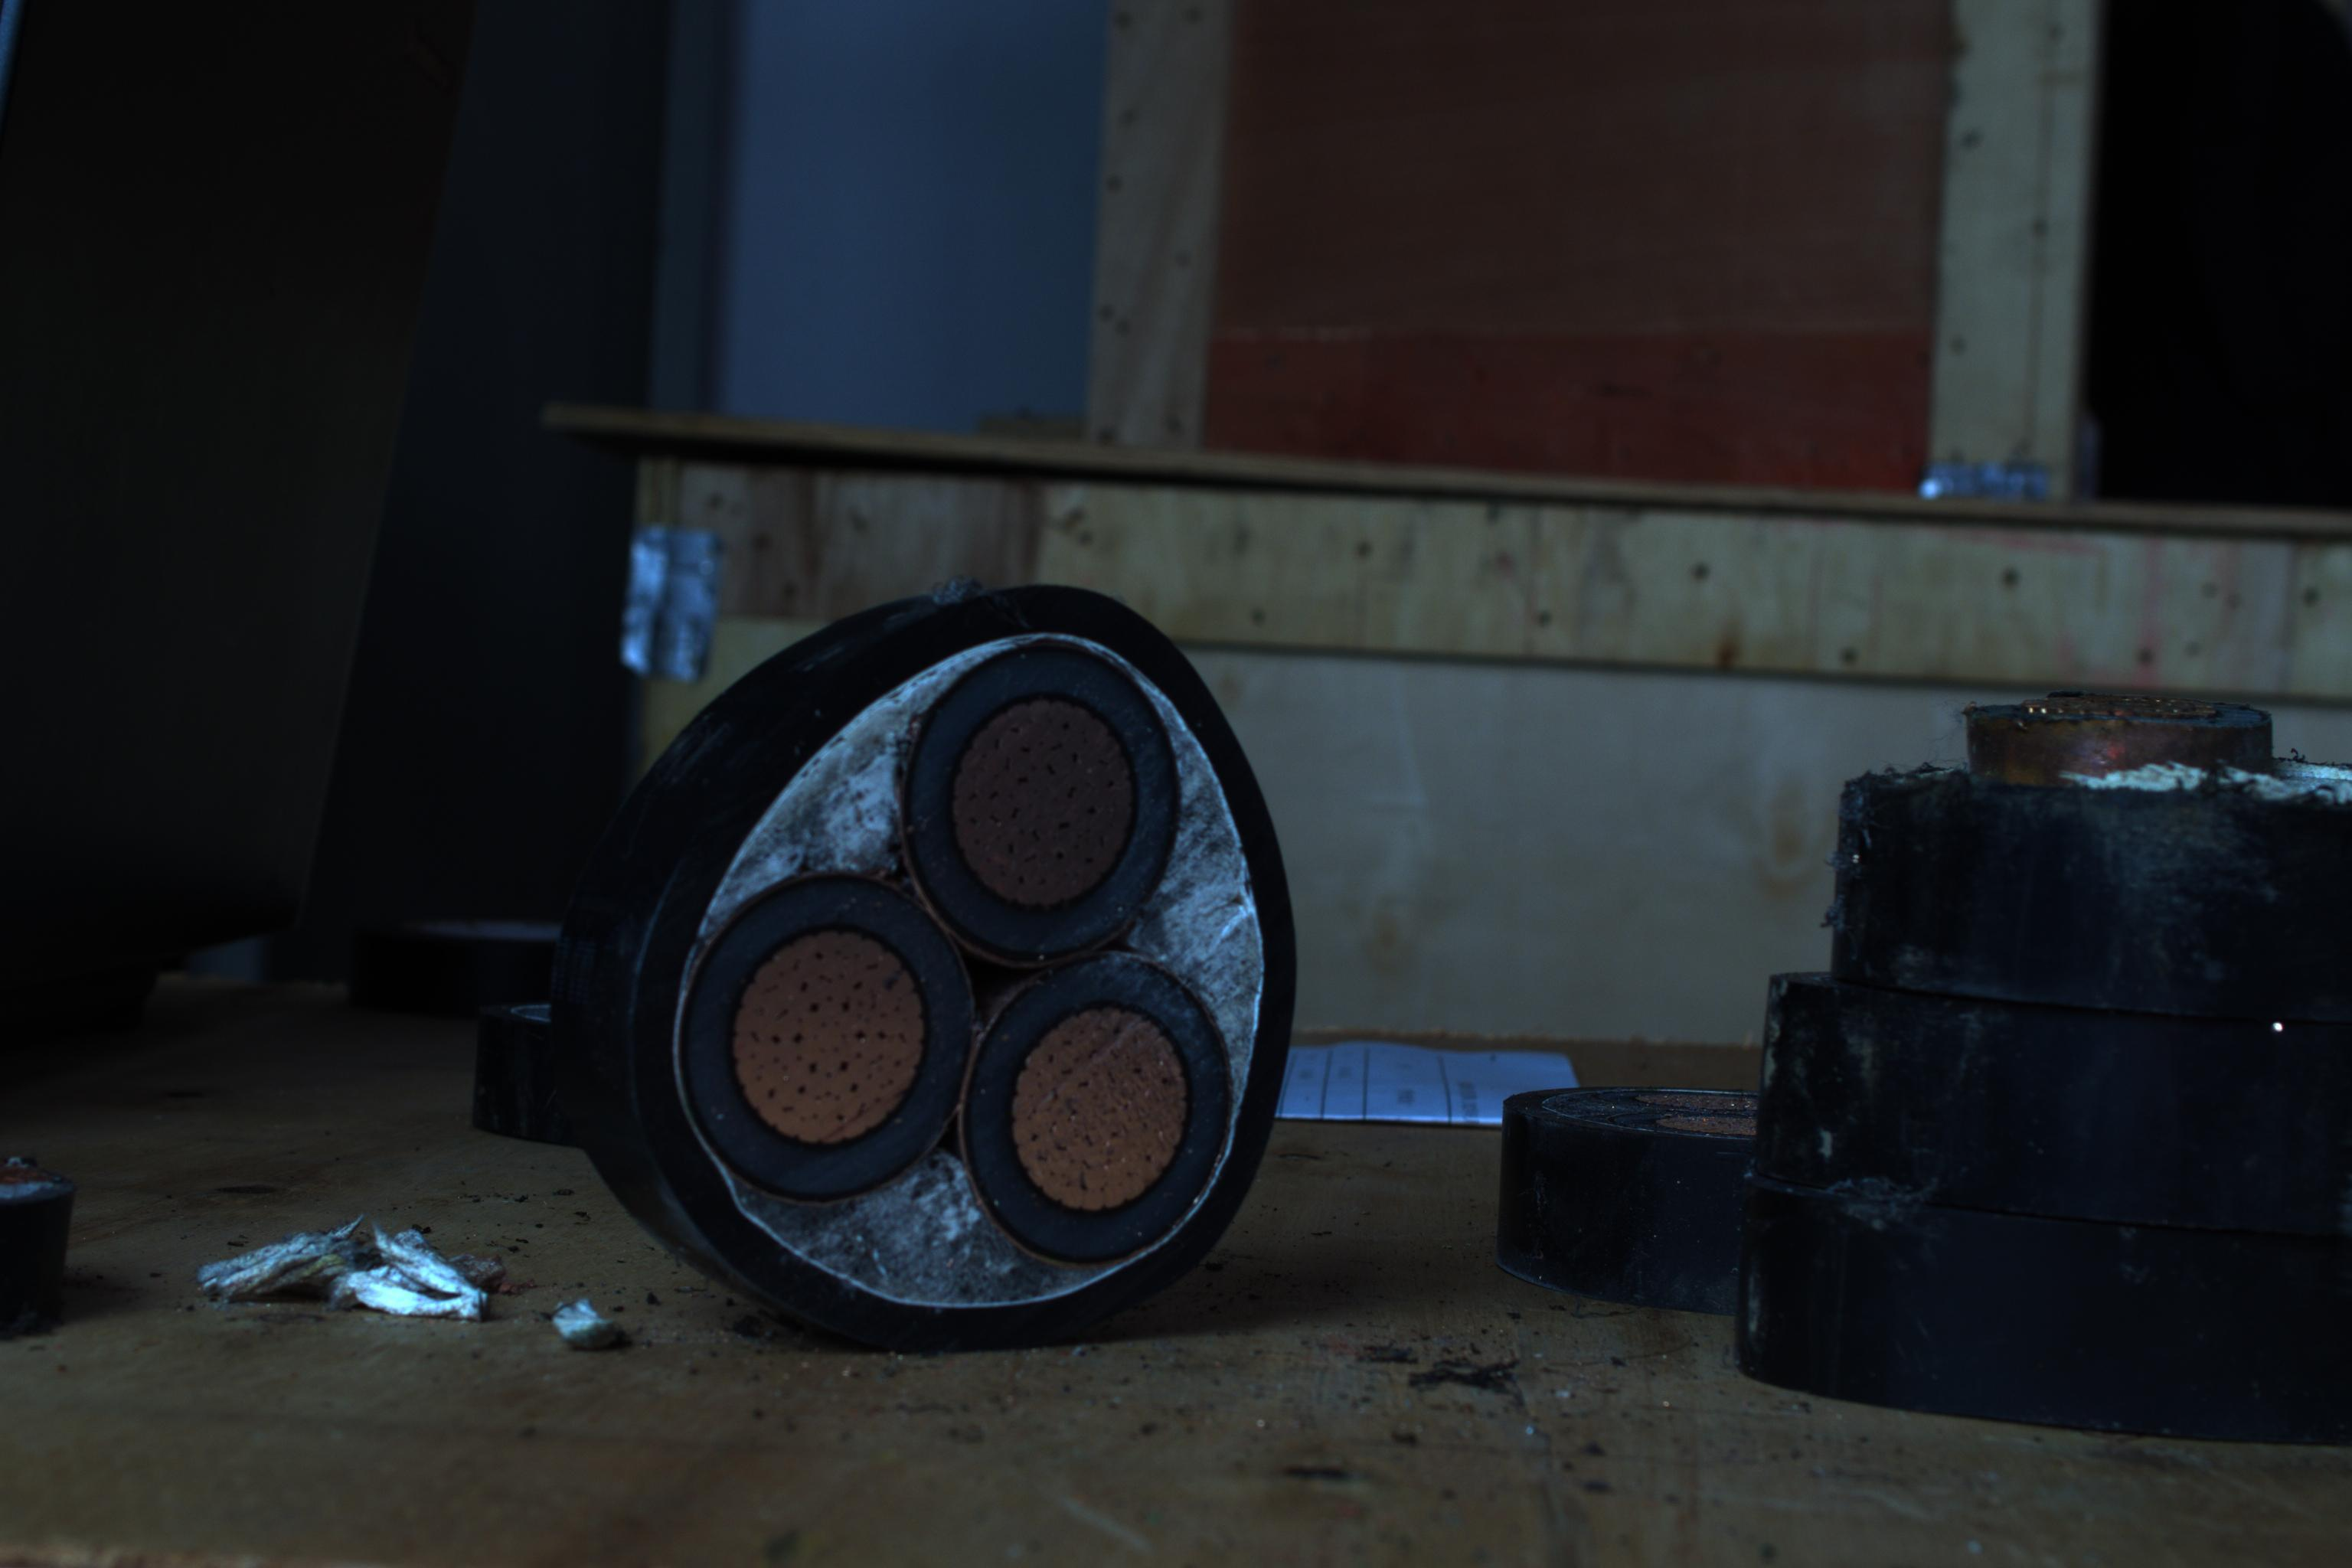ZA_YJV_8.7_10kV_3x400: (611, 595, 1318, 1328)
